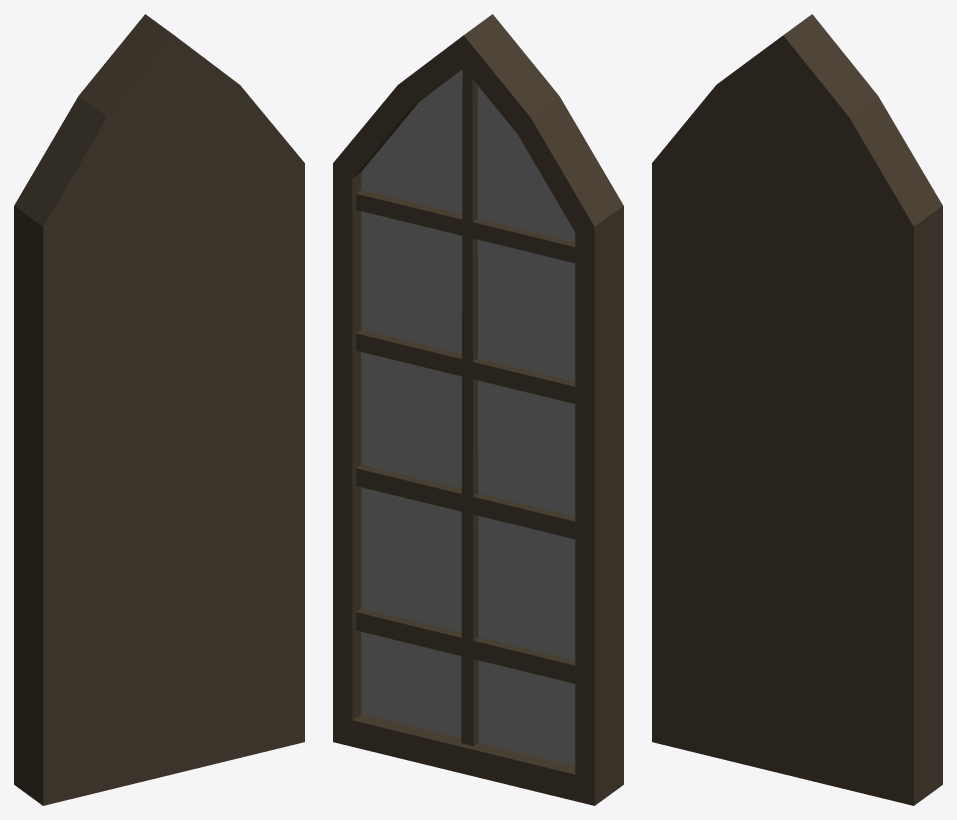
The model's file is 3Dobject_window.fbx.
3 views of the same model, side by side, from view 1: azimuth 30°, elevation 25°; view 2: azimuth 150°, elevation 25°; view 3: azimuth 330°, elevation 25° (orthographic).
Parts seen in each view (by area): view 1: window; view 2: window; view 3: window.
Boxes of the visible parts, x1,y1,x2,y2 form: window: [14, 14, 304, 805]; window: [333, 14, 623, 805]; window: [652, 14, 942, 805].
Size of the model in its own units: 1 by 2.7 by 0.1923.
